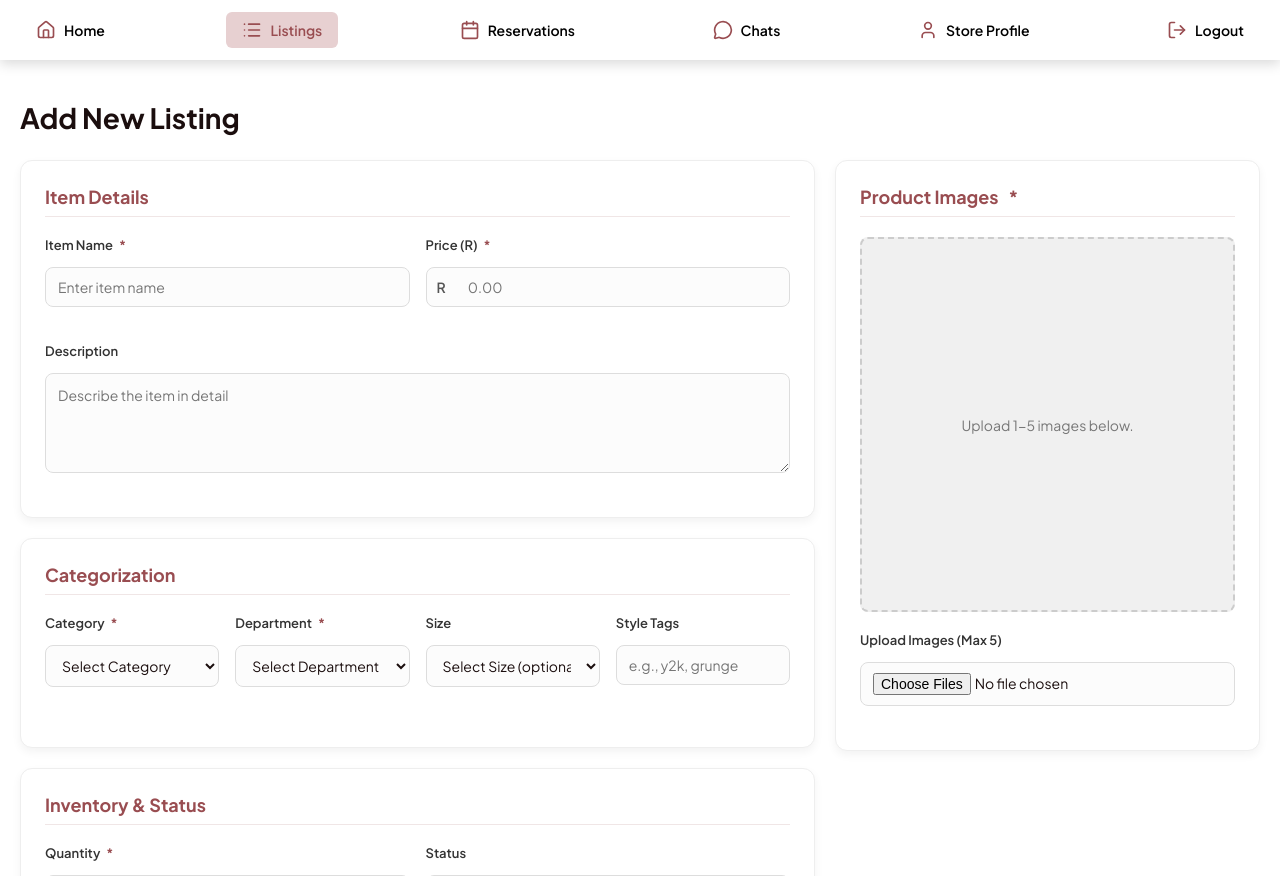
Scenario: AddListing › Form Validation › validates price is positive
Type "-10" into the number field labelled "Price (R) *" at x=622, y=287, box [456, 268, 789, 306]
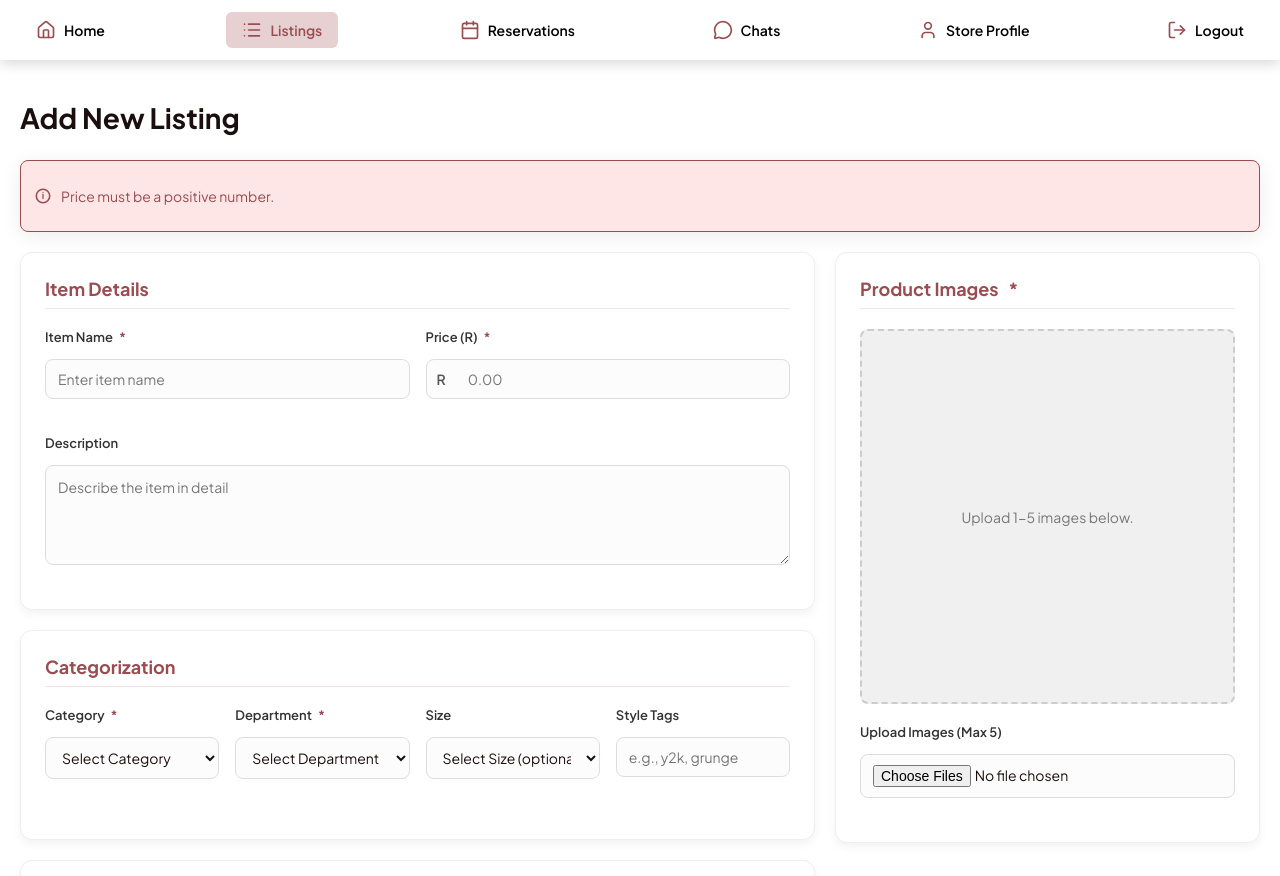
expect the text "Price must be a positive number." is shown: met, box [61, 187, 274, 205]
